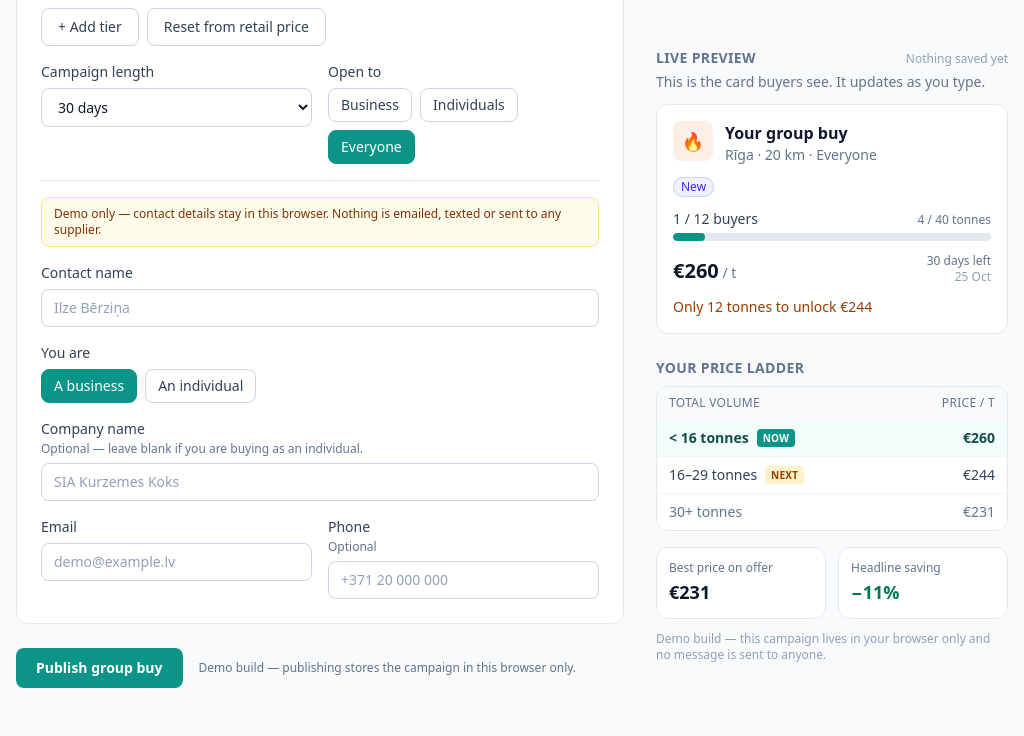
Scenario: CreateCampaignPage review › blocks the FIRST submit, renders the summary and focuses it
The image size is (1024, 736).
(page scrolled)
Click the button "Publish group buy": (99, 668) [16,648,182,688]
(page scrolled)
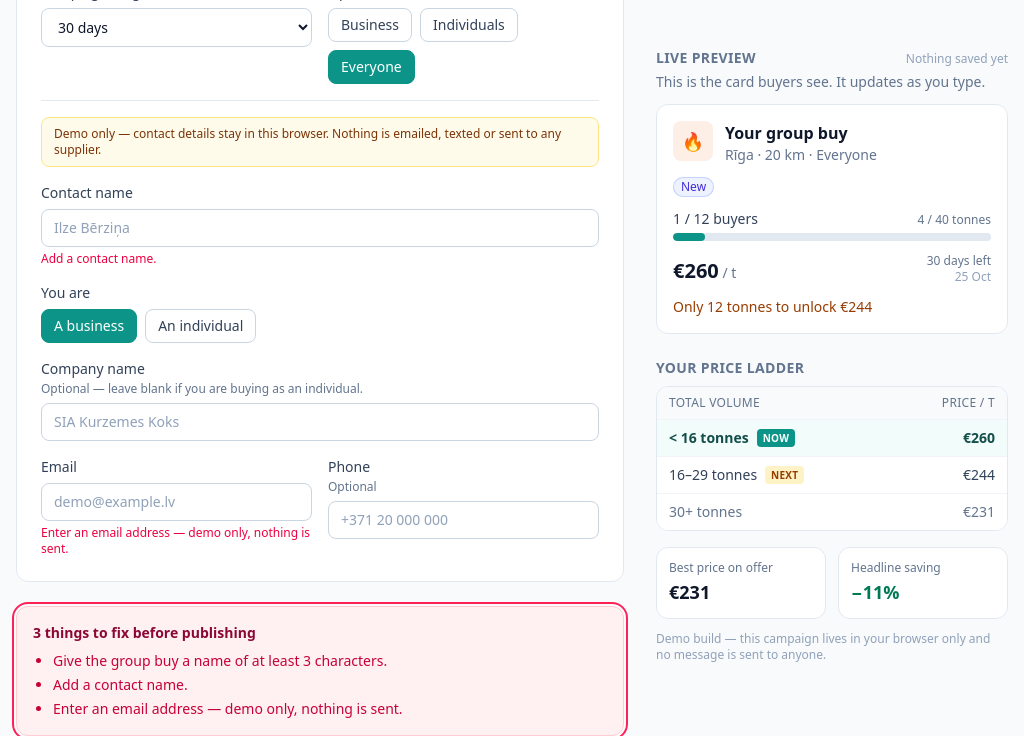
Expected: the message is shown, [16,606,624,735]
